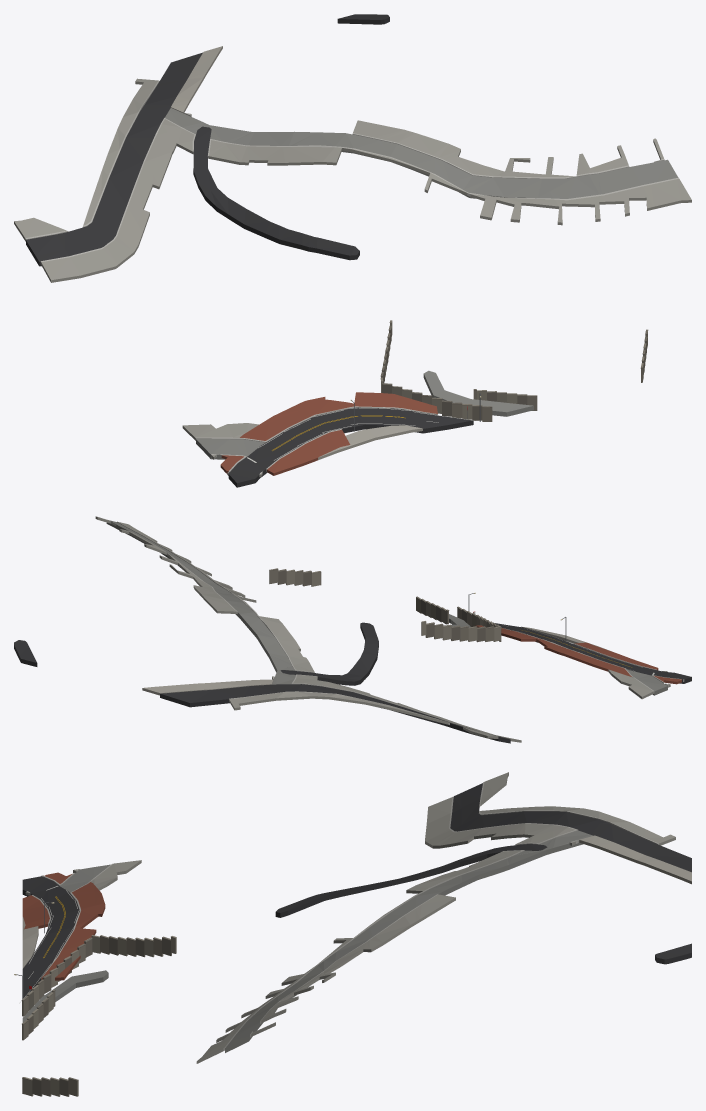
The picture shows the model from 3 angles, top to bottom: view 1: azimuth 30°, elevation 25°; view 2: azimuth 150°, elevation 25°; view 3: azimuth 270°, elevation 25°; orthographic projection. The views are drawn at different scales.
Size of the model in its own units: 147 by 39.21 by 148.
